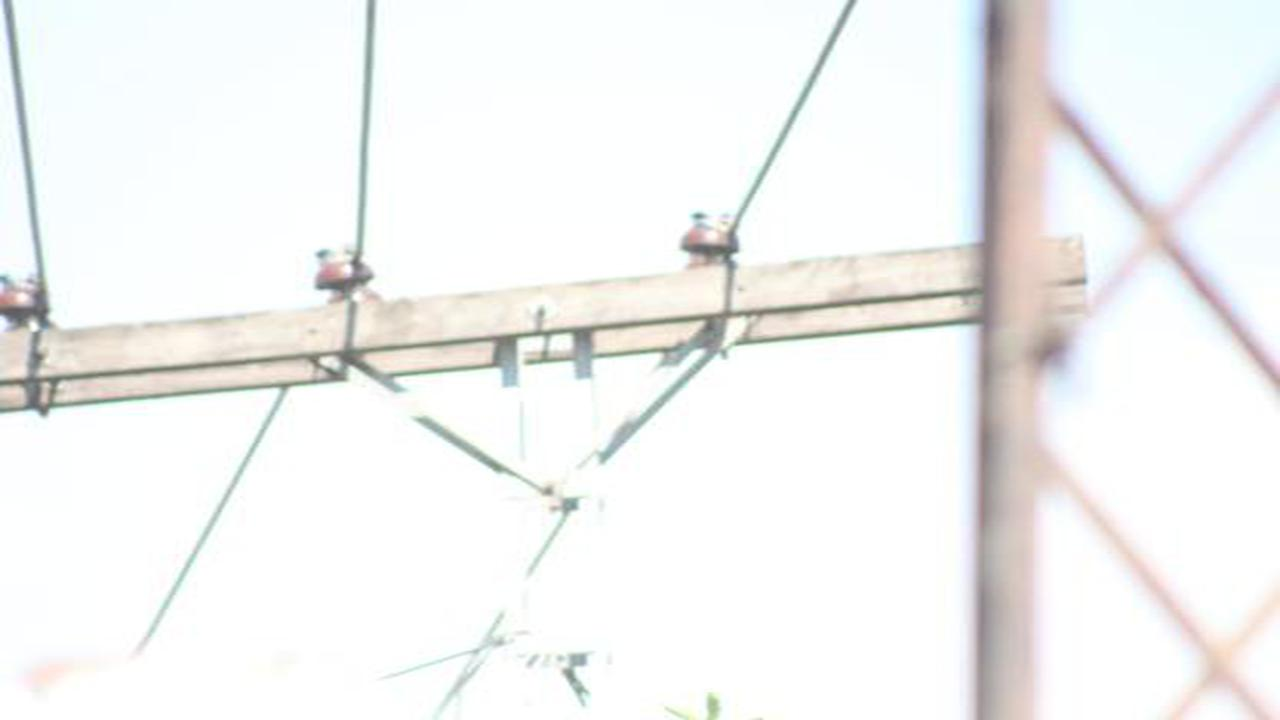insulator_pin: (678, 203, 750, 263), (310, 240, 381, 295)
